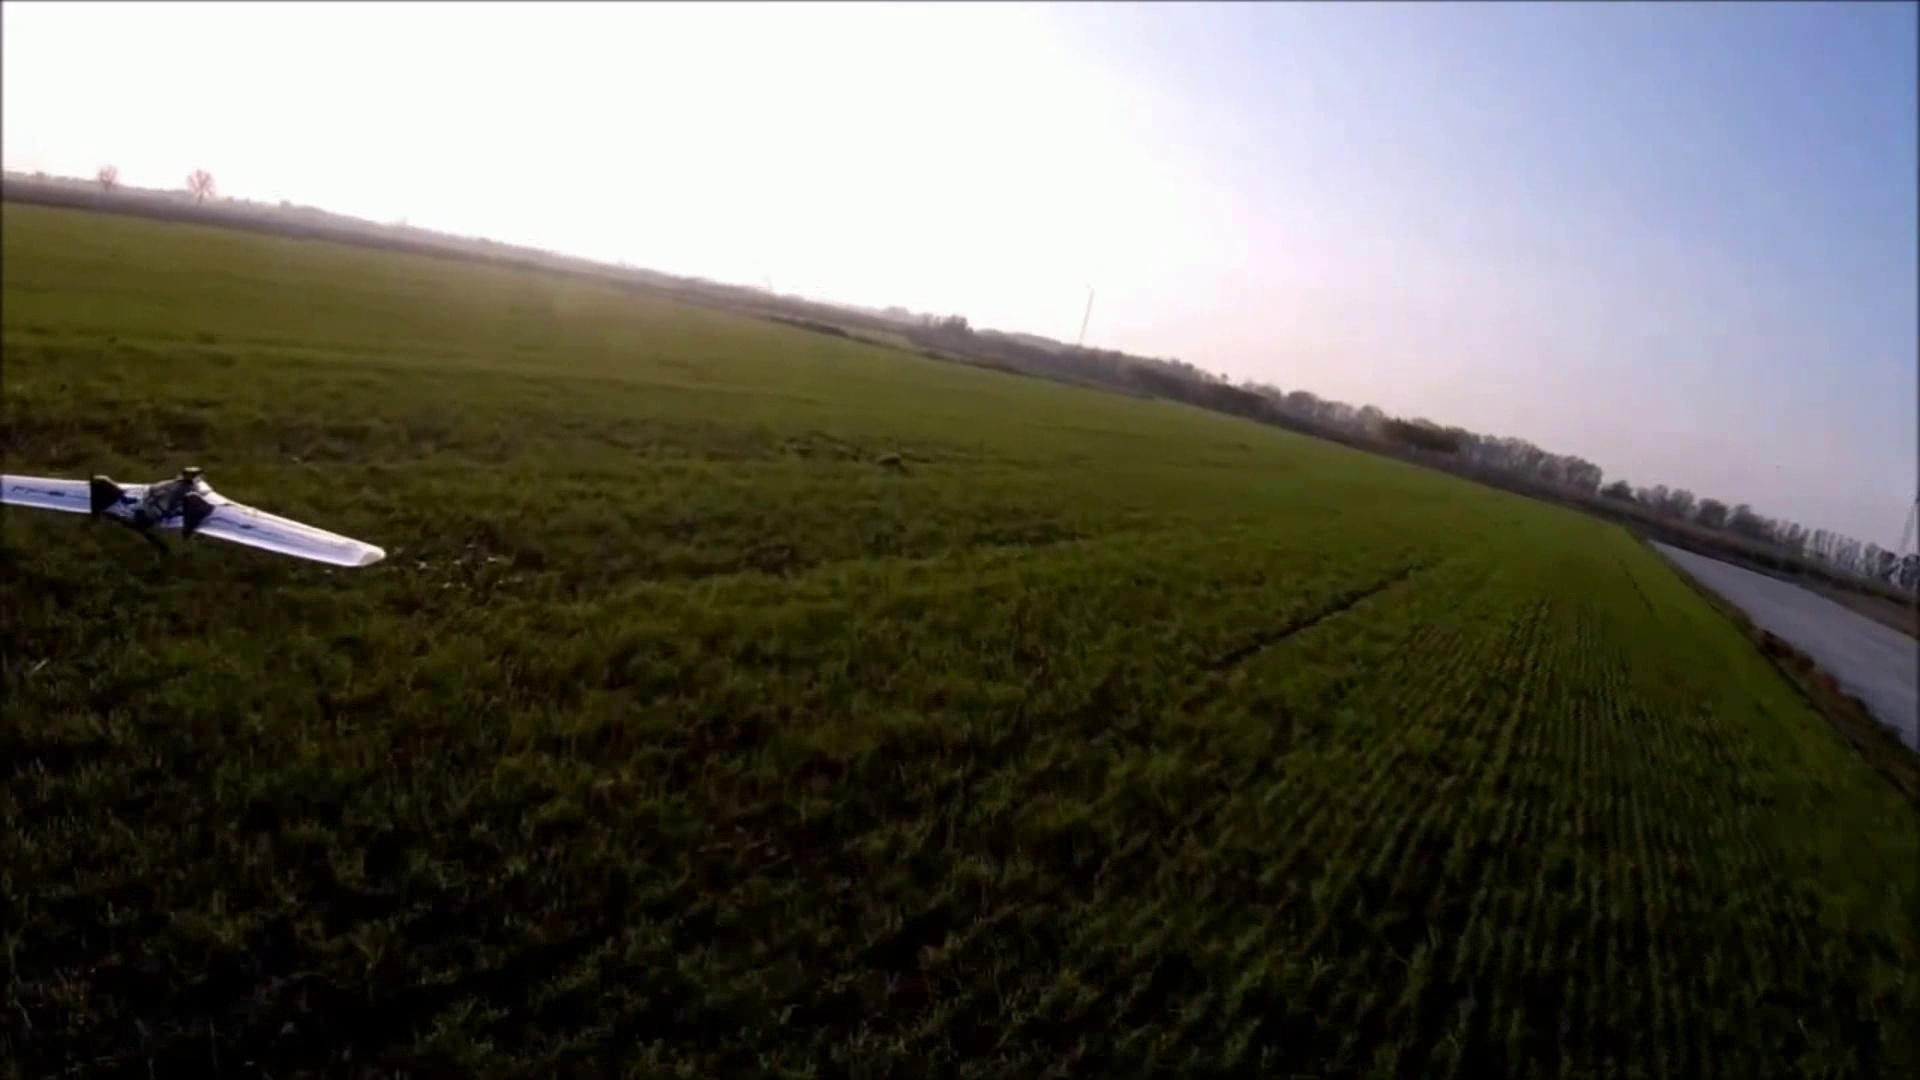airplane: (0, 465, 385, 574)
